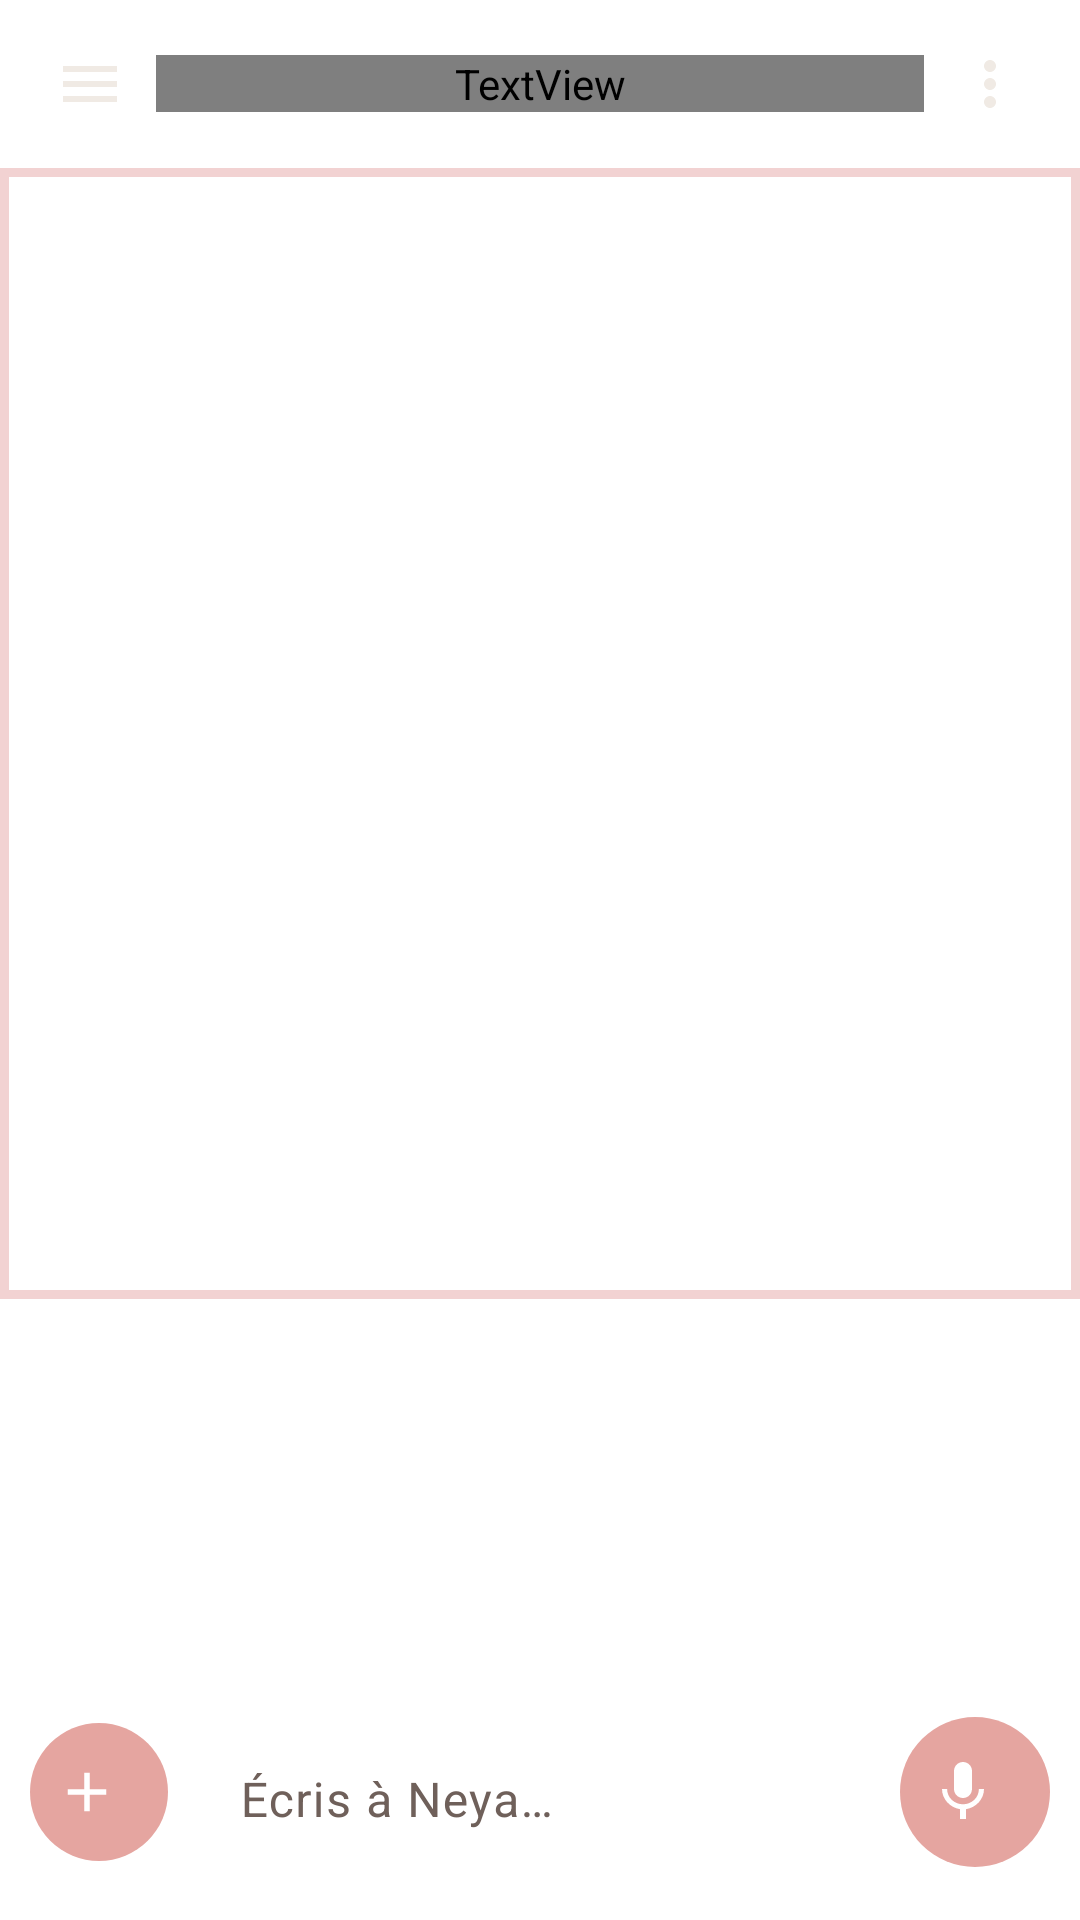

Where to tap for icons on this 1080*1920 app screen, as (x=x, y=y):
Ajouter: (x=99, y=1792)
Menu: (x=90, y=84)
Plus d'options: (x=990, y=84)
